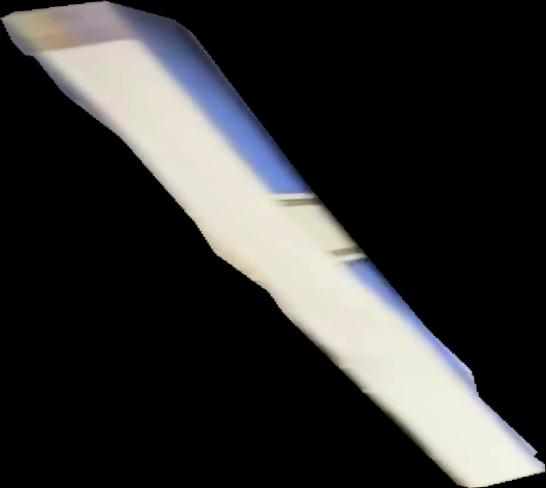backward: (1, 1, 546, 488)
